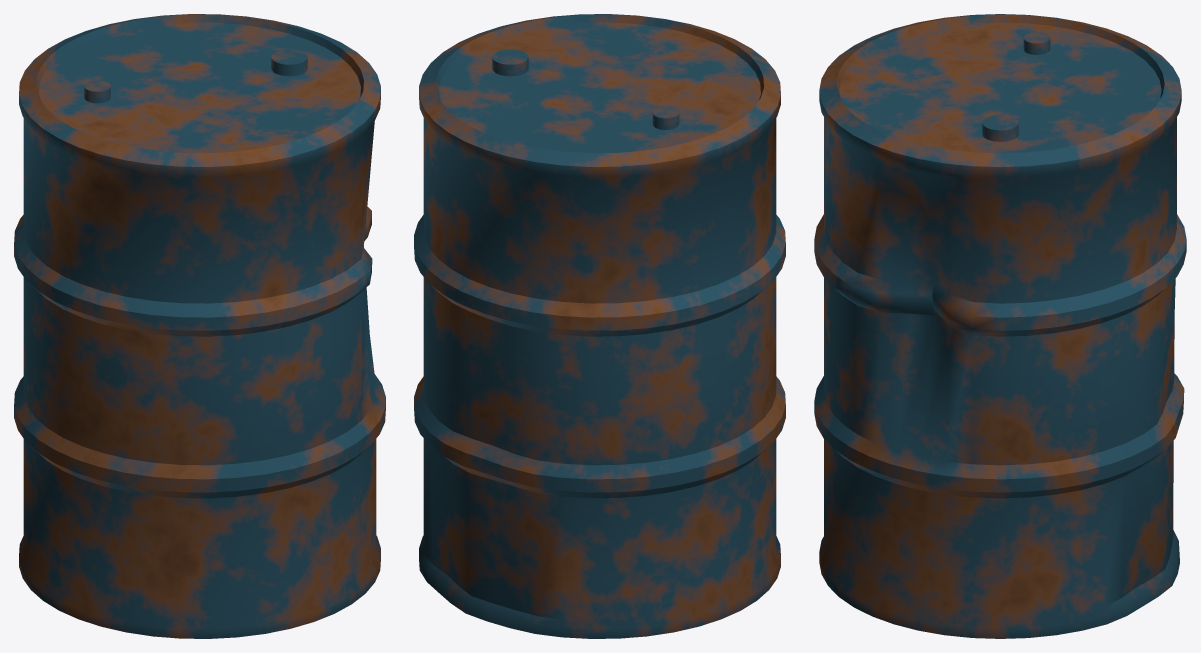
File: OilDrum.fbx
The picture shows the model from 3 angles, left to right: view 1: azimuth 30°, elevation 25°; view 2: azimuth 150°, elevation 25°; view 3: azimuth 270°, elevation 25°; orthographic projection.
Visible parts, largest first — view 1: OilDrum; view 2: OilDrum; view 3: OilDrum.
Boxes of the visible parts, x1,y1,x2,y2 form: OilDrum: (14,14,385,638); OilDrum: (414,14,785,638); OilDrum: (814,14,1186,638).
Size of the model in its own units: 0.612 by 0.889 by 0.612.
Materials: 1 (1 with a texture image).
